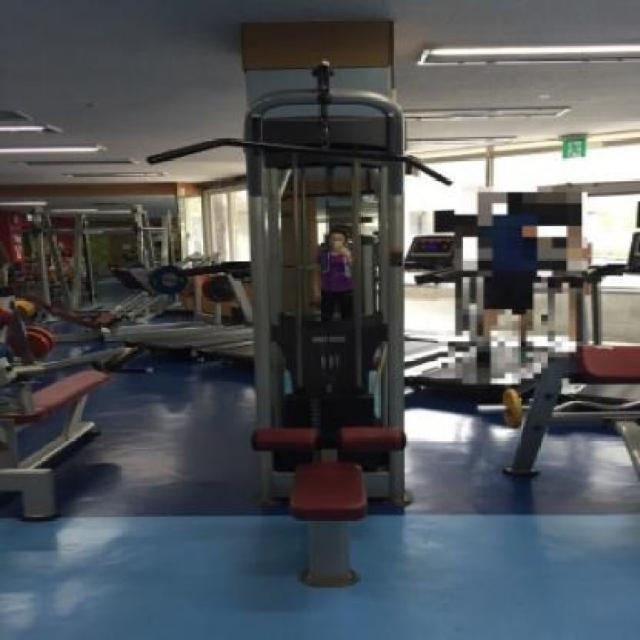Lat Pull Down: (117, 9, 514, 602)
